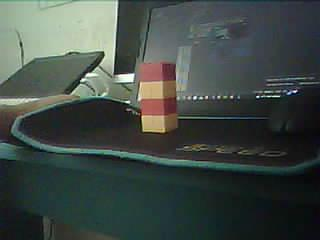lego: (137, 62, 179, 133)
